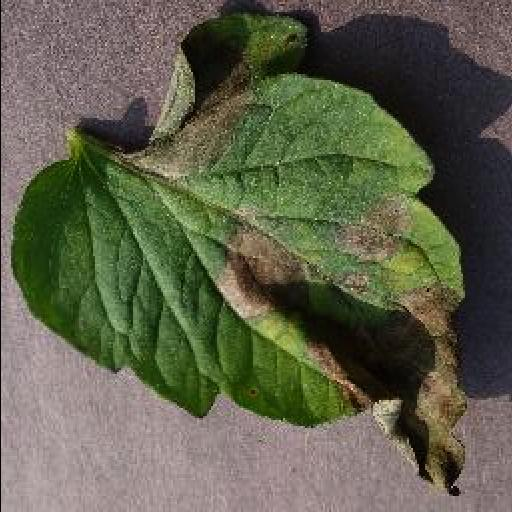disease_tomato: (8, 14, 470, 500)
